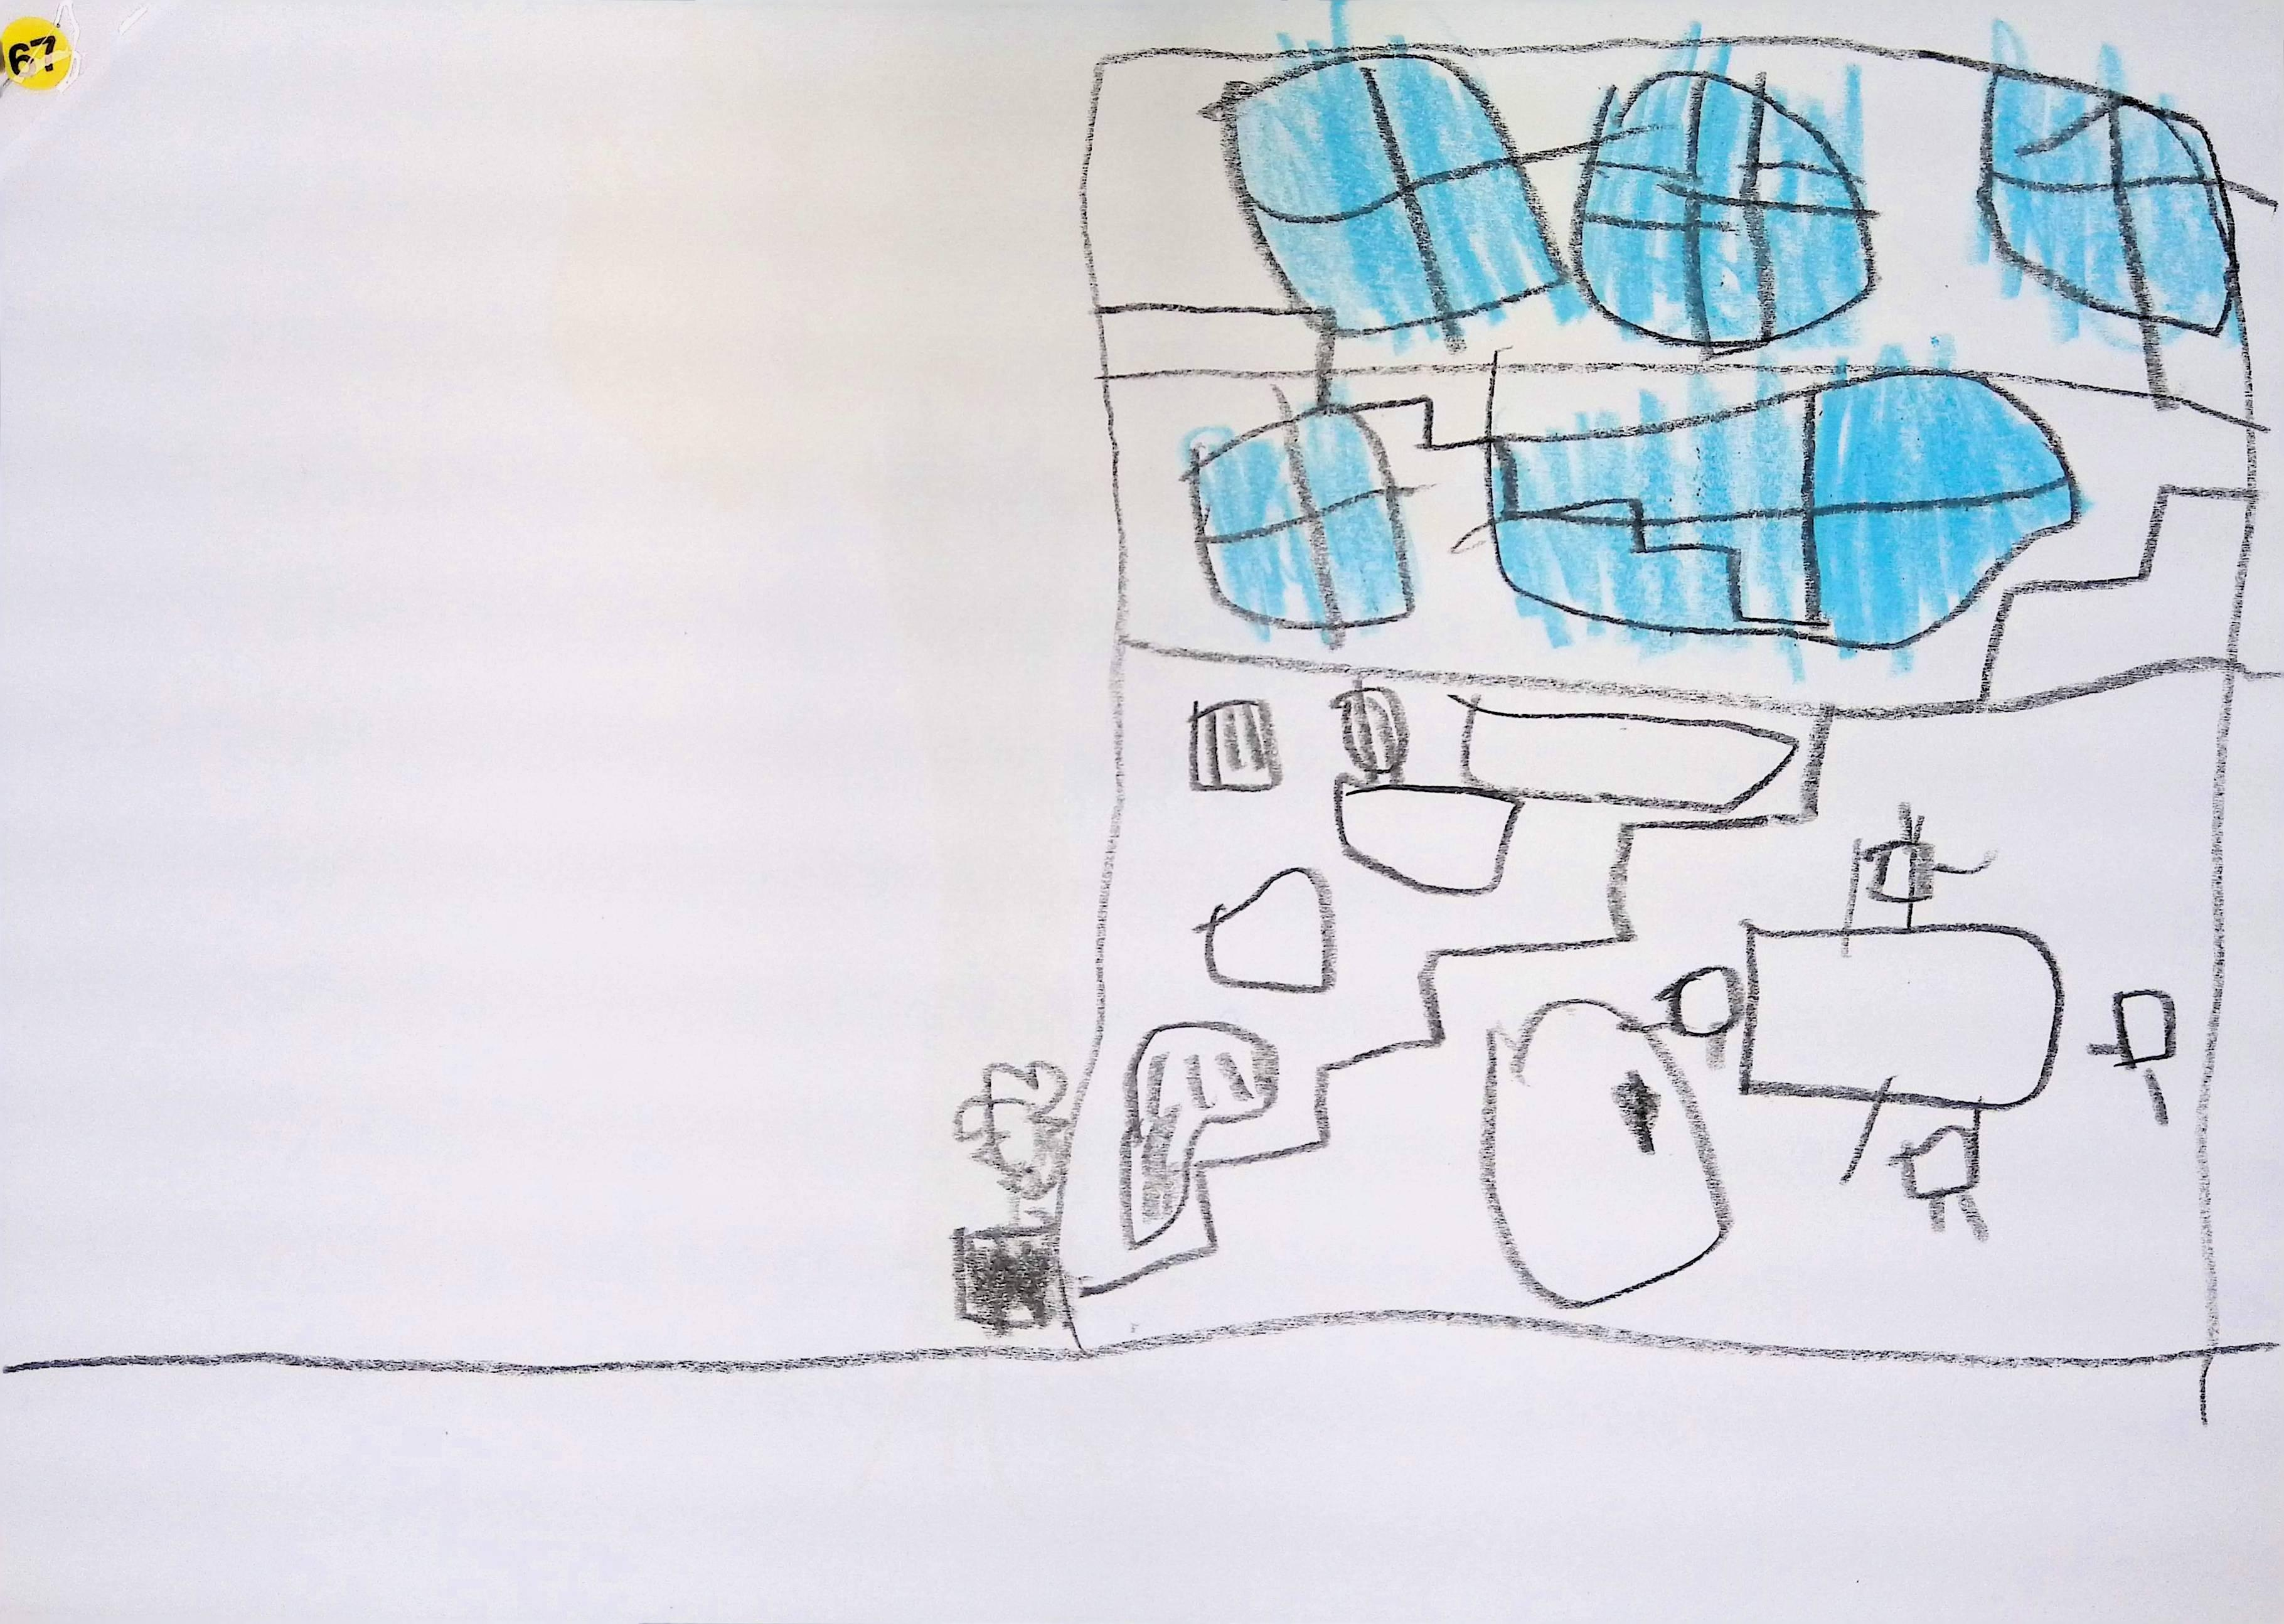door: (1486, 1000, 1729, 1308)
house: (1056, 32, 2263, 1362)
window: (1493, 369, 2080, 647), (1214, 51, 1564, 337), (1579, 69, 1875, 344), (1984, 65, 2240, 332), (1188, 406, 1414, 643)
